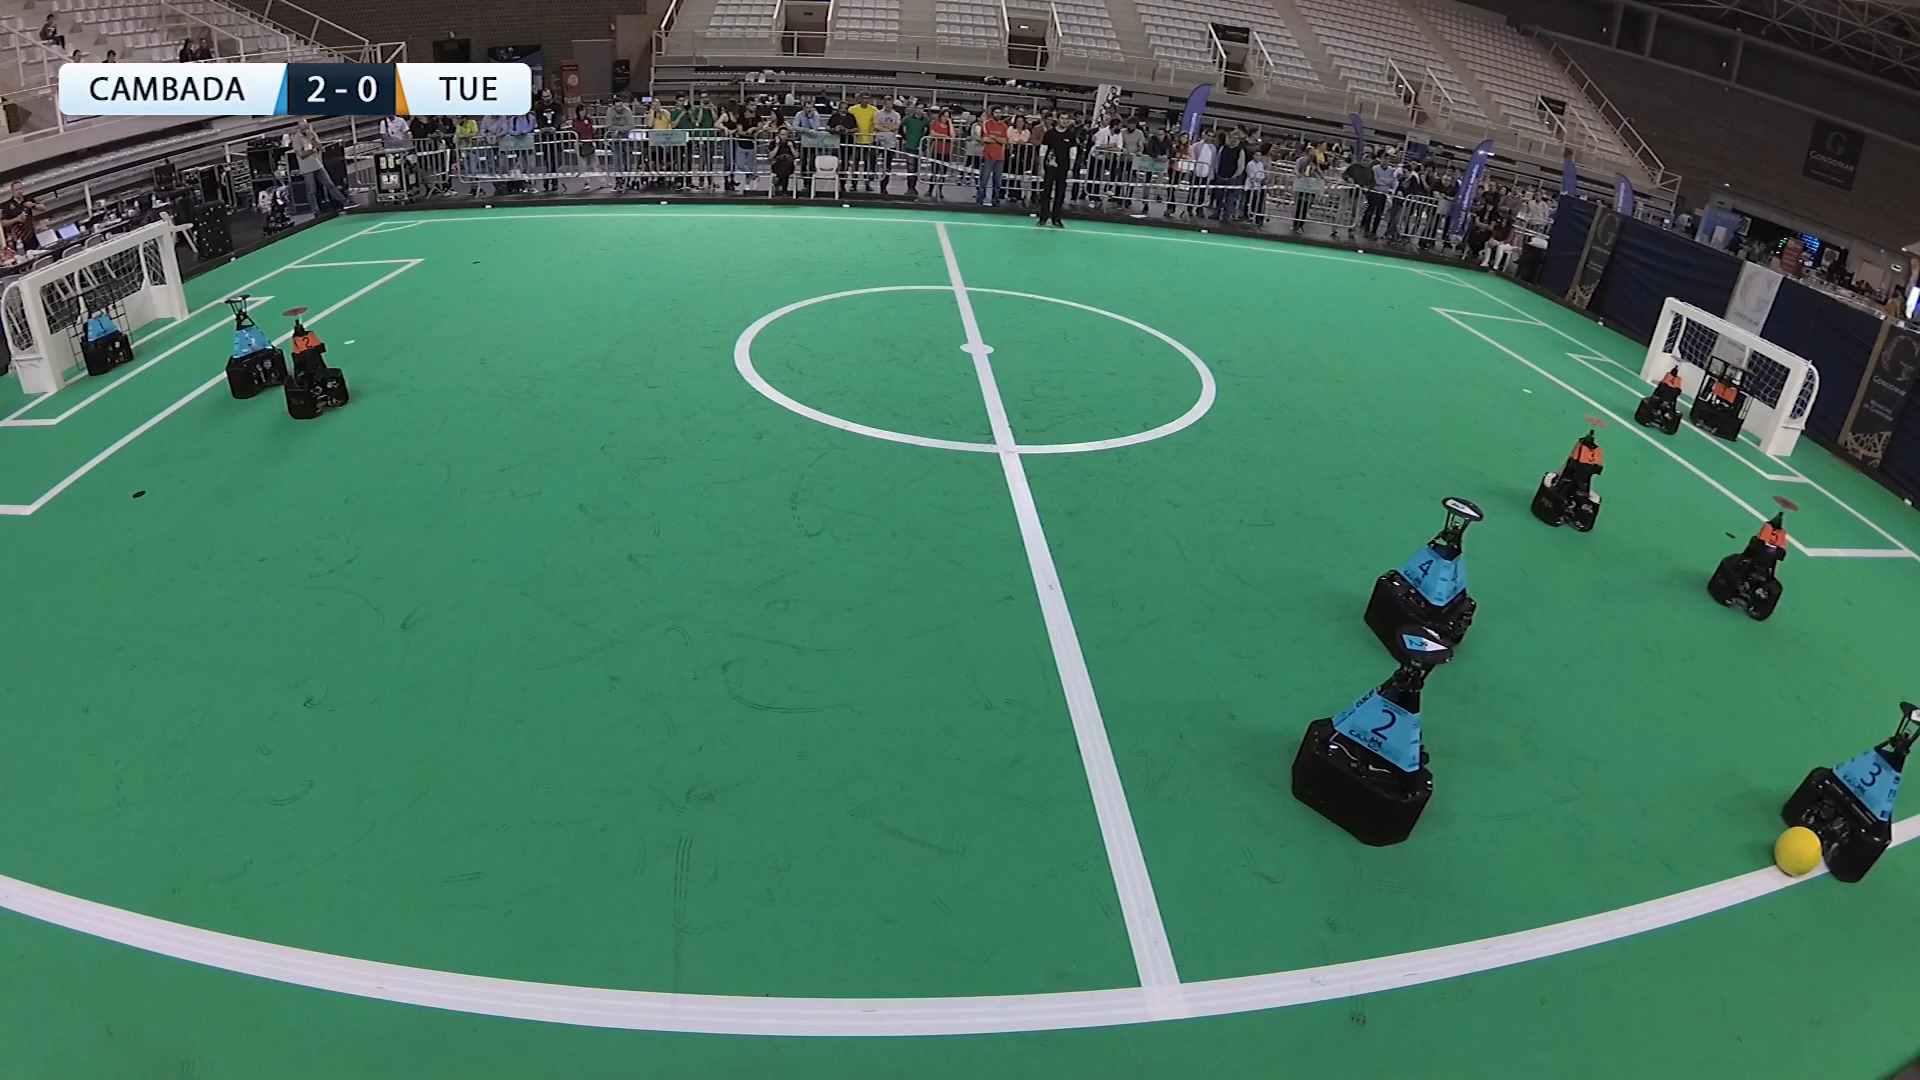BALL: (1779, 825, 1820, 880)
BLUE2: (1296, 669, 1448, 804)
BLUE3: (1817, 713, 1919, 828)
BLUE4: (1362, 500, 1489, 654)
BLUE5: (223, 301, 273, 376)
B_Goalie: (78, 291, 129, 382)
RED2: (293, 314, 330, 419)
RED3: (1539, 429, 1615, 520)
RED4: (1648, 360, 1684, 404)
RED5: (1724, 504, 1793, 603)
R_Goalie: (1697, 365, 1751, 429)
